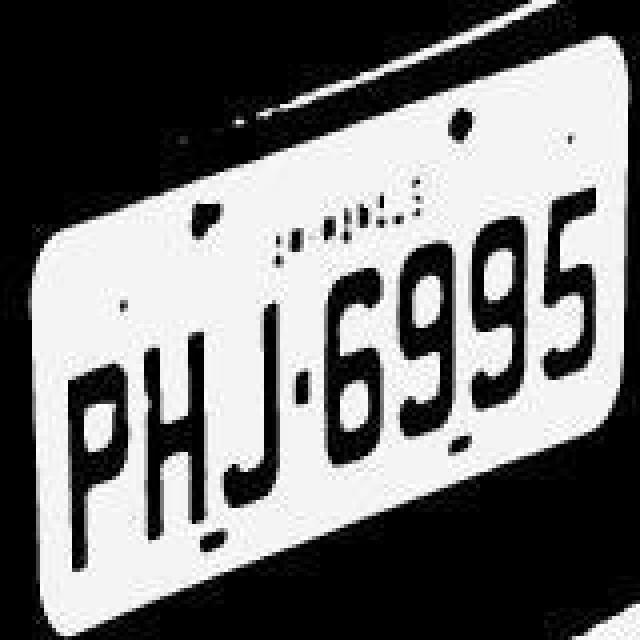5: (528, 184, 608, 400)
6: (312, 260, 392, 476)
9: (386, 236, 462, 452), (460, 208, 532, 416)
H: (134, 322, 210, 542)
J: (216, 306, 296, 510)
P: (62, 364, 130, 580)
